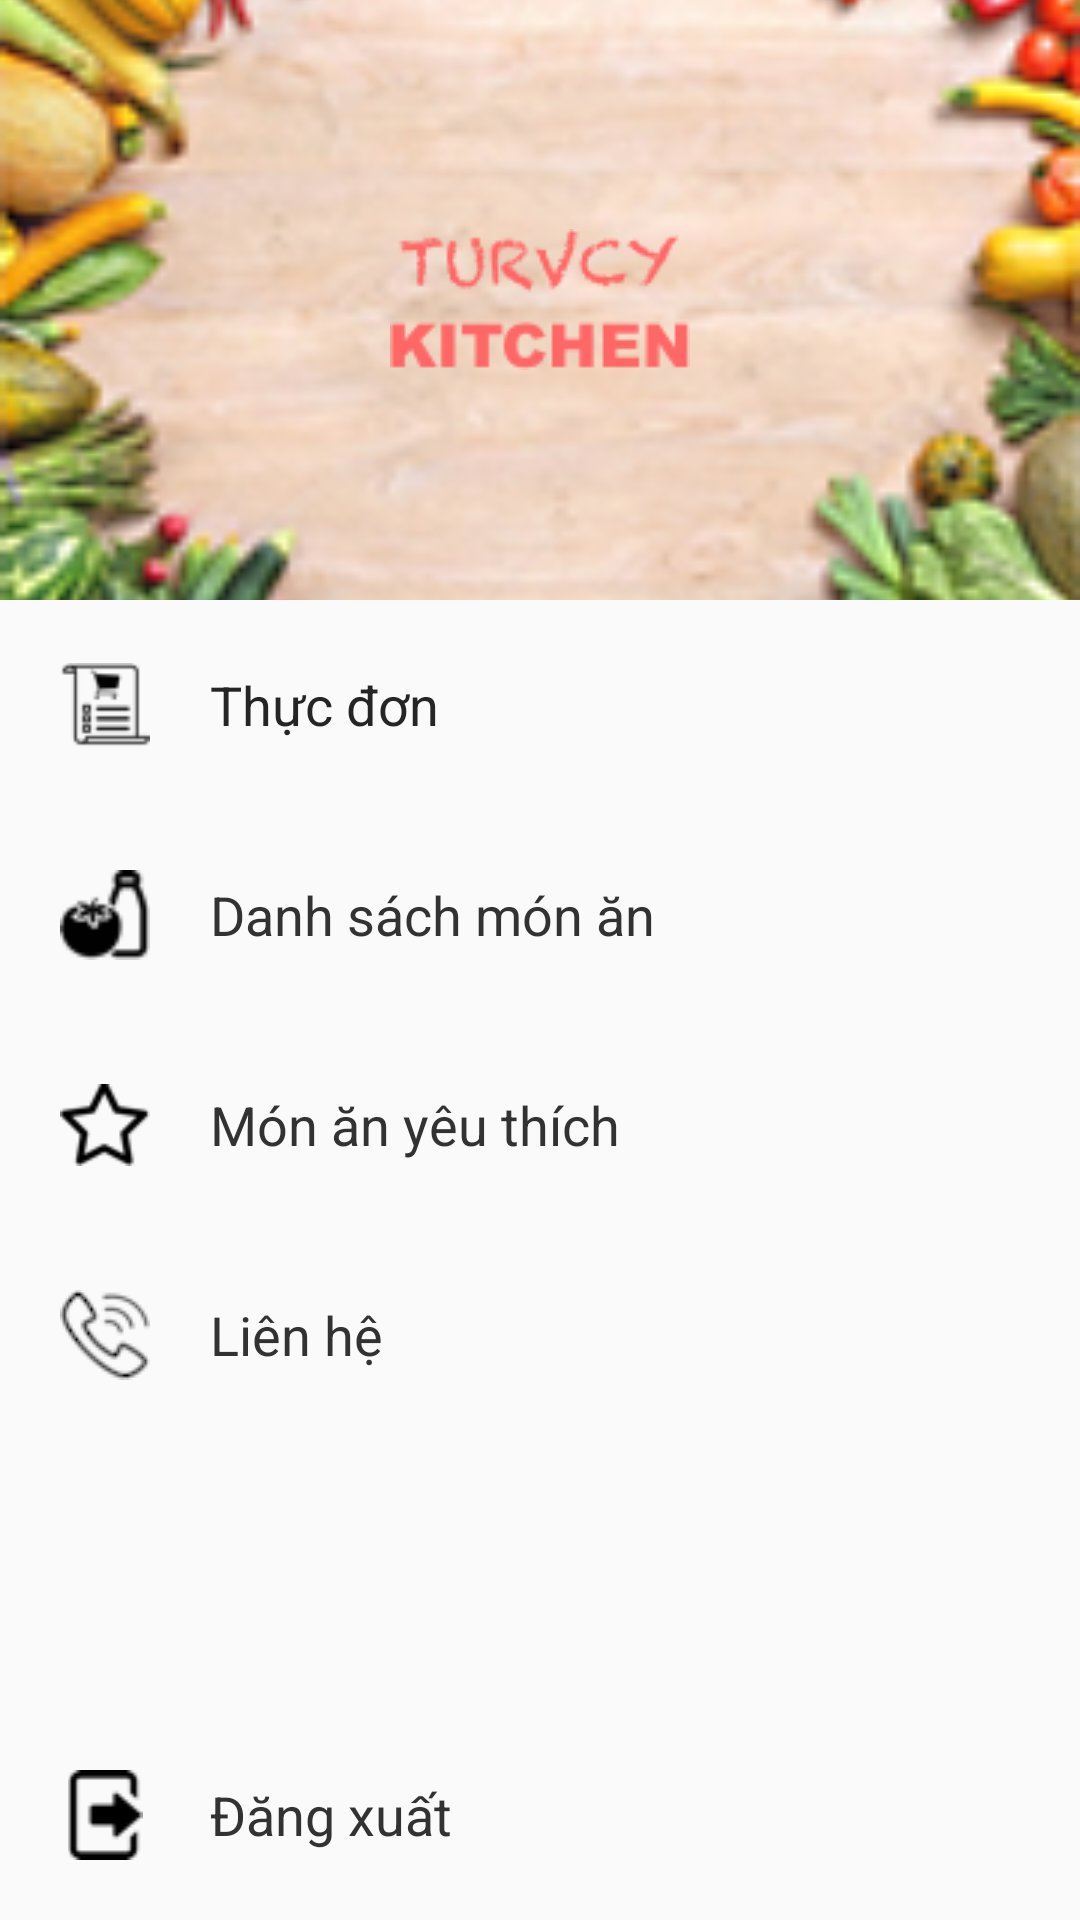

Icon bounding boxes for this 1080x1920 phone screenshot, format (x1, y1, x2, y2):
contact: (60, 1290, 150, 1380)
favorite food: (60, 1084, 150, 1166)
food list: (60, 870, 150, 960)
list grocery: (62, 663, 150, 745)
log out: (68, 1770, 143, 1860)
